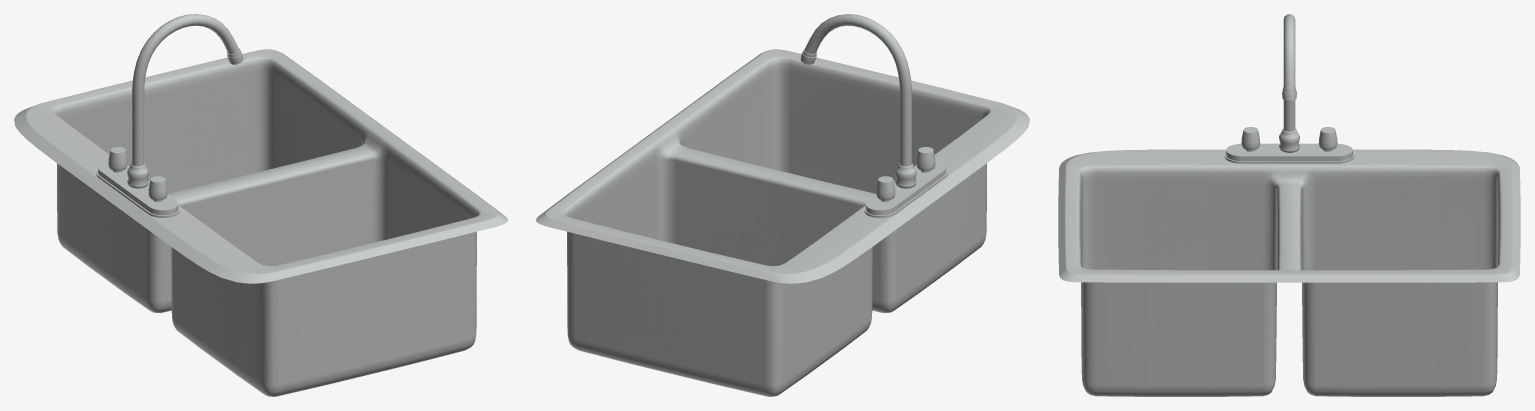
Rendered from sink.gltf.
3 views of the same model, side by side, from view 1: azimuth 30°, elevation 25°; view 2: azimuth 150°, elevation 25°; view 3: azimuth 270°, elevation 25° (orthographic). The views are drawn at different scales.
Visible parts, largest first — view 1: KitchenSink, KitchenSinkFaucet, KitchenSinkHandleR, KitchenSinkHandleL; view 2: KitchenSink, KitchenSinkFaucet, KitchenSinkHandleL, KitchenSinkHandleR; view 3: KitchenSink, KitchenSinkFaucet, KitchenSinkHandleL, KitchenSinkHandleR.
Boxes of the visible parts, x1=… form: KitchenSink: x1=14, y1=49, x2=507, y2=396; KitchenSinkFaucet: x1=127, y1=14, x2=243, y2=188; KitchenSinkHandleR: x1=108, y1=147, x2=127, y2=172; KitchenSinkHandleL: x1=148, y1=176, x2=167, y2=201; KitchenSink: x1=536, y1=49, x2=1029, y2=396; KitchenSinkFaucet: x1=800, y1=14, x2=916, y2=188; KitchenSinkHandleL: x1=916, y1=147, x2=935, y2=172; KitchenSinkHandleR: x1=876, y1=176, x2=895, y2=201; KitchenSink: x1=1058, y1=143, x2=1520, y2=396; KitchenSinkFaucet: x1=1279, y1=14, x2=1299, y2=152; KitchenSinkHandleL: x1=1241, y1=127, x2=1260, y2=151; KitchenSinkHandleR: x1=1318, y1=127, x2=1337, y2=151.
Bounding box in the file's own units: 0.5674 × 0.6311 × 0.8332.
1 material, 1 textured.
